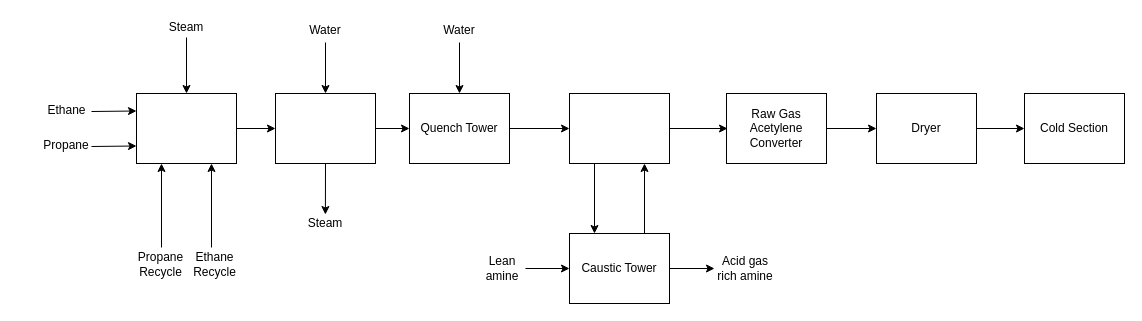
Some shapes in this 1142 by 321 pixel diagram are drawn without their labels. Here are the shapes that lost their labels. From the top down, the centre of each, then its label:
pixel 186 128: Steam Cracker
pixel 325 128: Transfer Line Exchanger
pixel 619 128: 5 Stage Compressor
